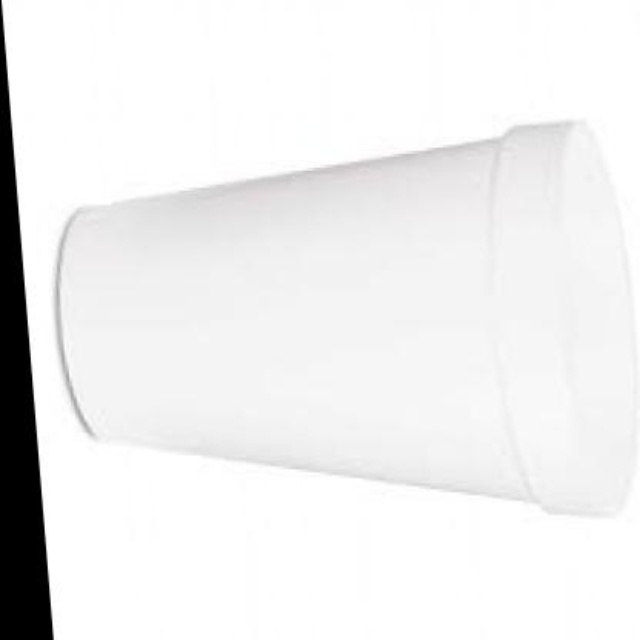trash: (58, 122, 634, 512)
